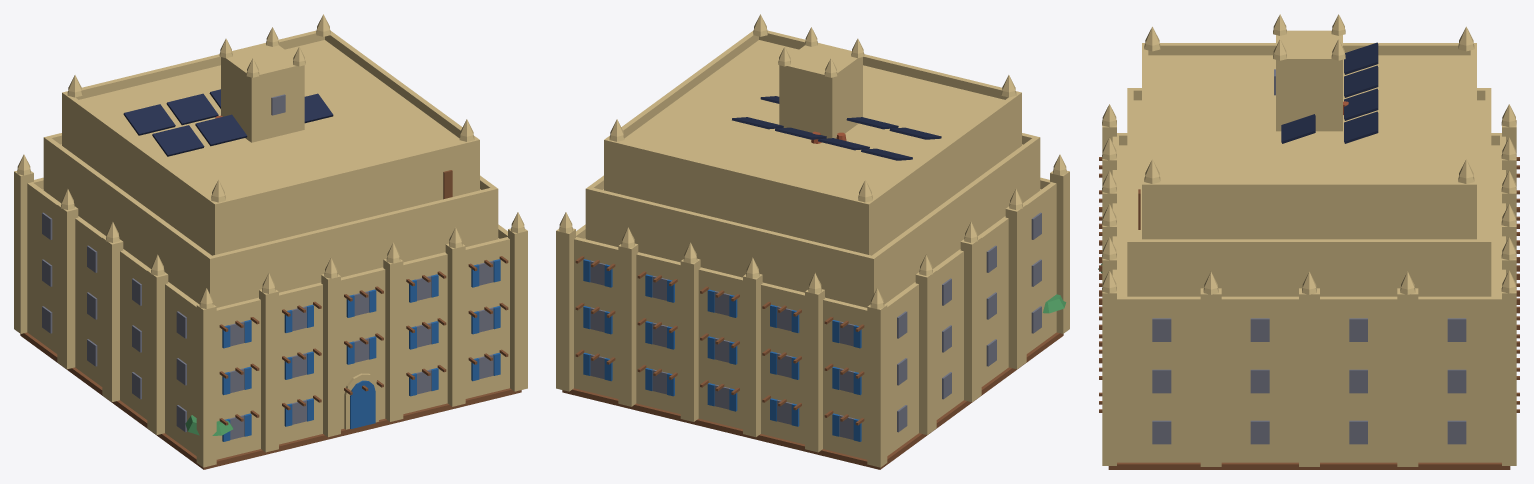
The model's file is house-2x2-5f-banco-a-solar.glb.
3 renders of one model, left to right at view 1: azimuth 30°, elevation 25°; view 2: azimuth 150°, elevation 25°; view 3: azimuth 270°, elevation 25°, orthographic. The views are drawn at different scales.
Parts seen in each view (by area): view 1: house-2x2-5f-banco-a-solar; view 2: house-2x2-5f-banco-a-solar; view 3: house-2x2-5f-banco-a-solar.
Boxes of the visible parts, <box> form: house-2x2-5f-banco-a-solar: <box>14,14,527,469</box>; house-2x2-5f-banco-a-solar: <box>556,14,1069,469</box>; house-2x2-5f-banco-a-solar: <box>1098,14,1519,469</box>.
Size of the model in its own units: 2.01 by 1.87 by 2.02.
Materials: 1 (1 with a texture image).
